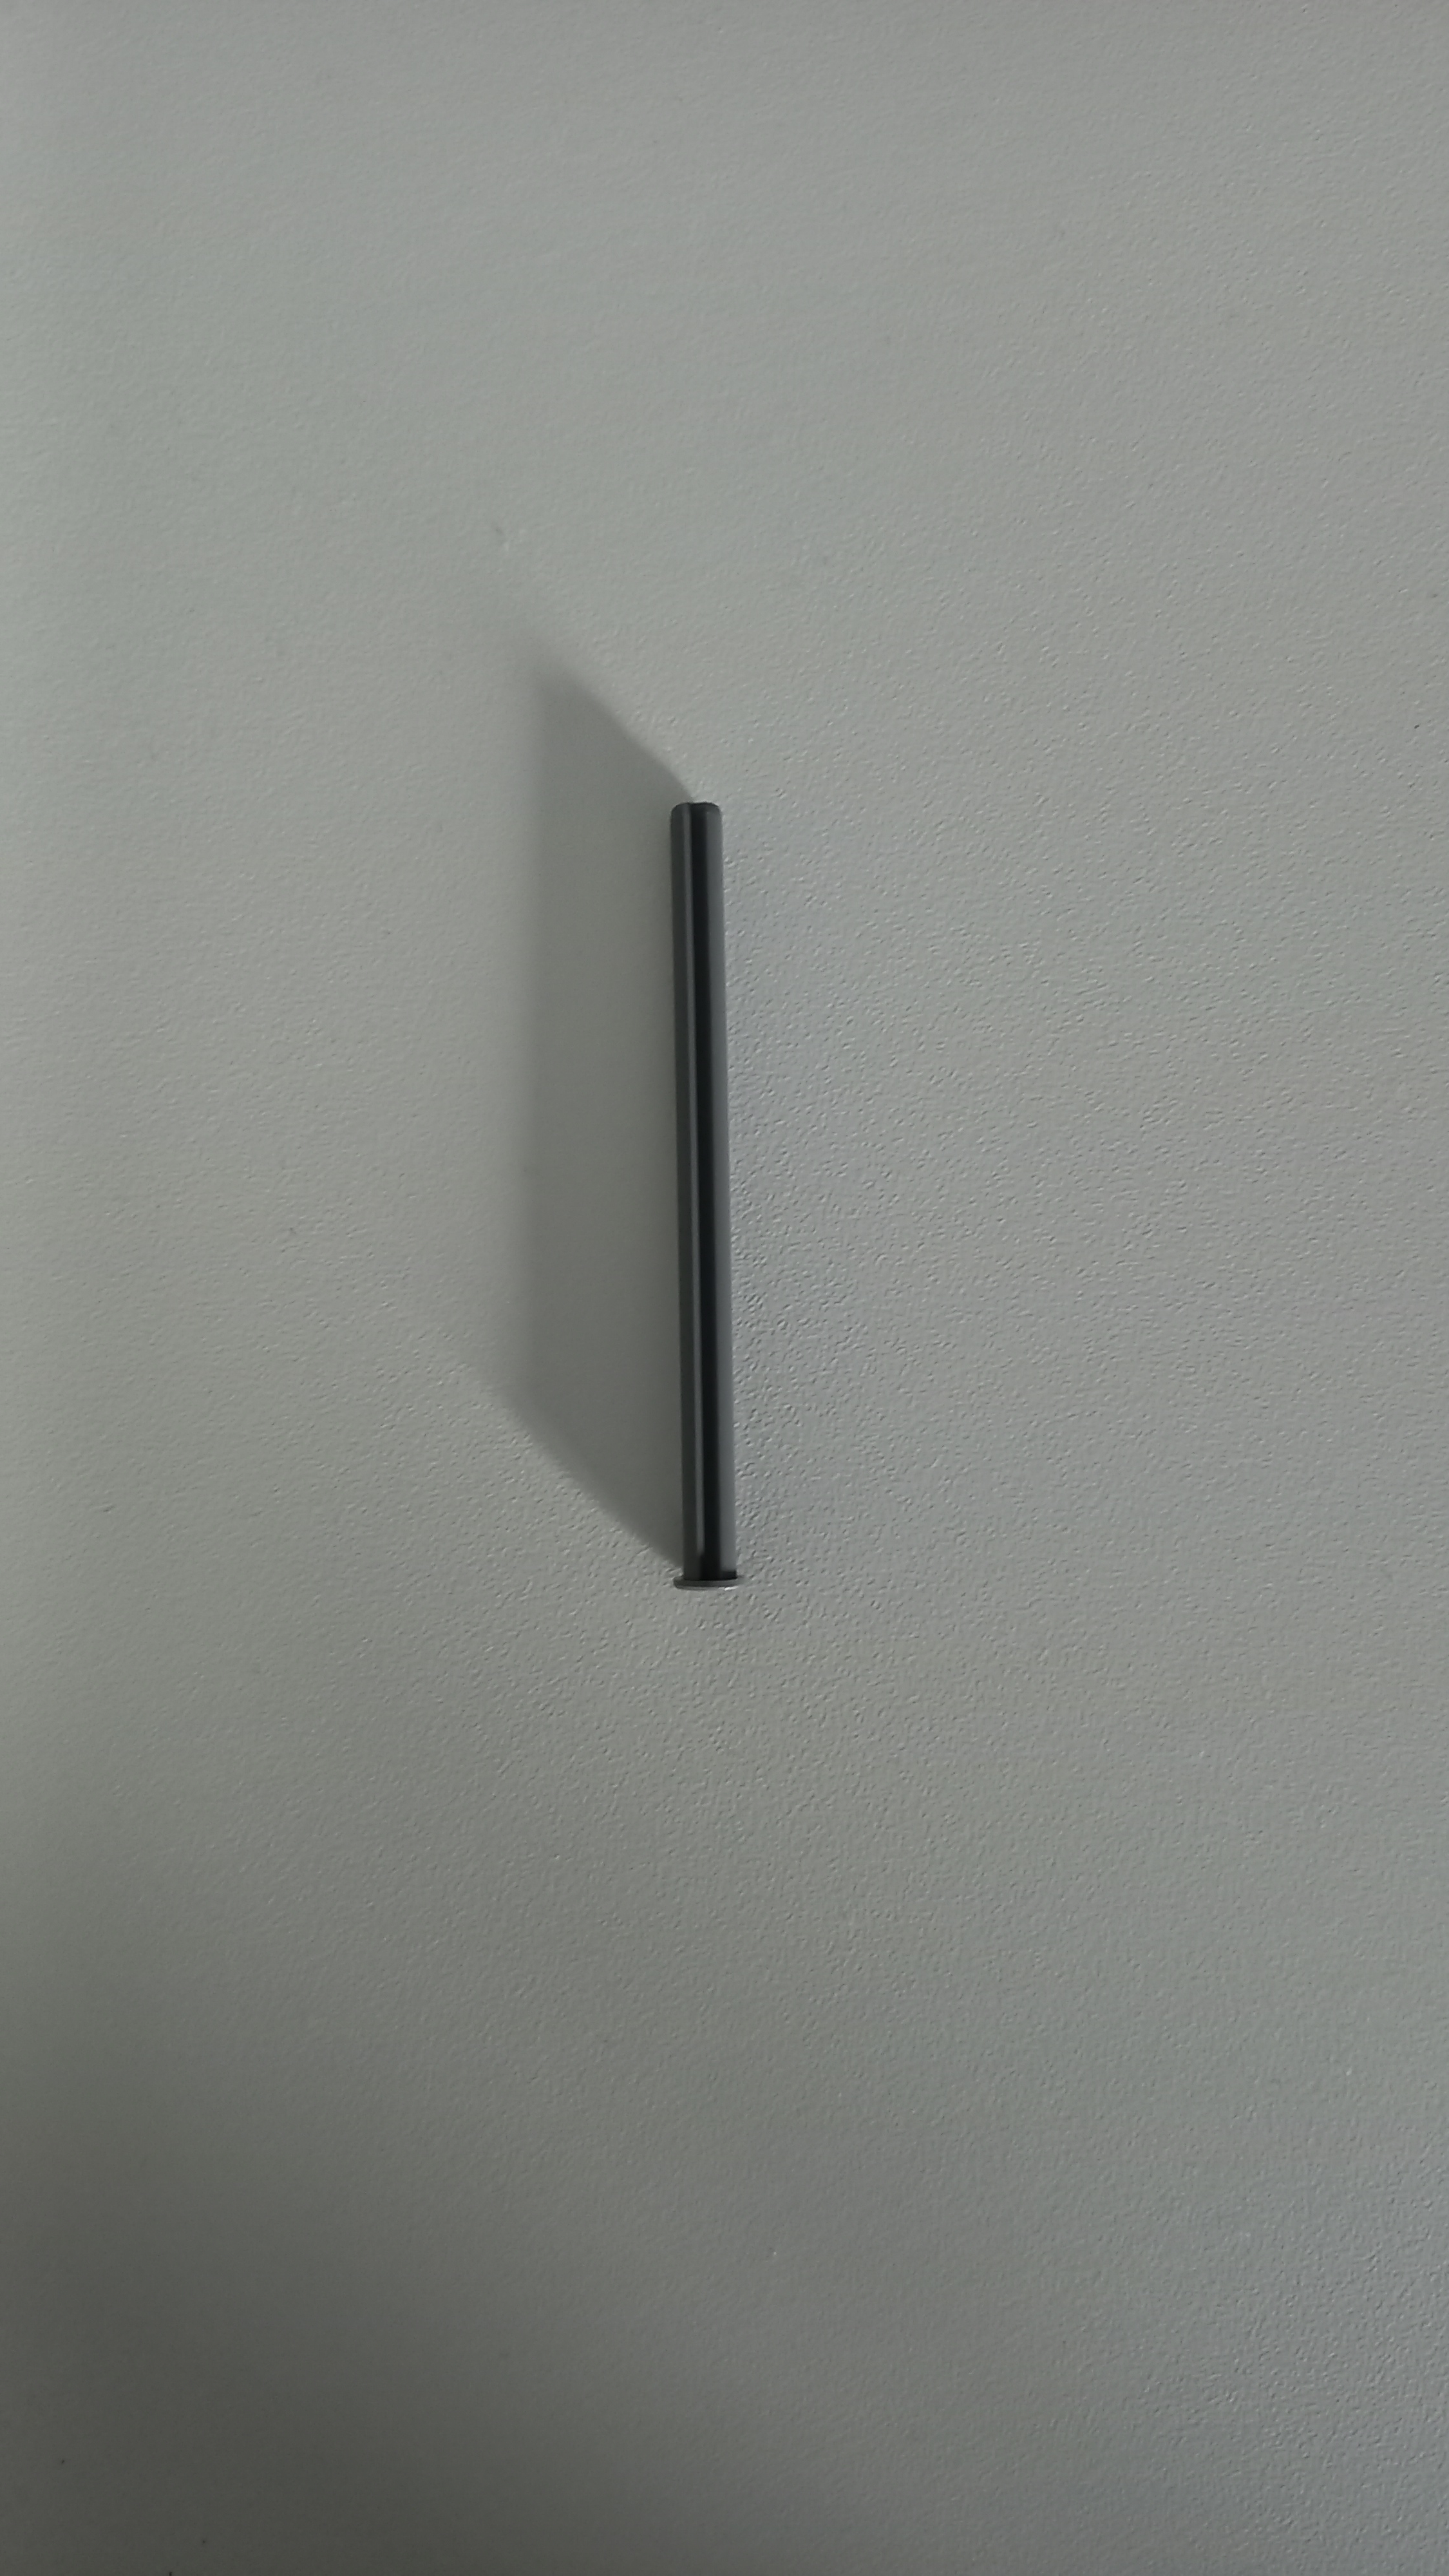Grau_lang: (642, 770, 773, 1629)
